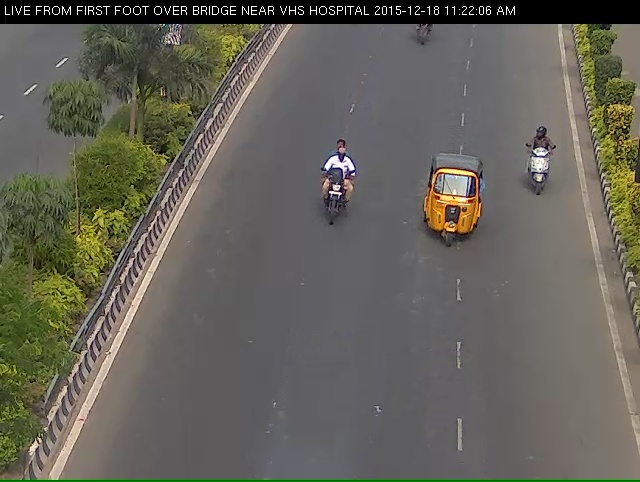Car: (420, 157, 484, 258)
Person: (311, 148, 353, 241)
